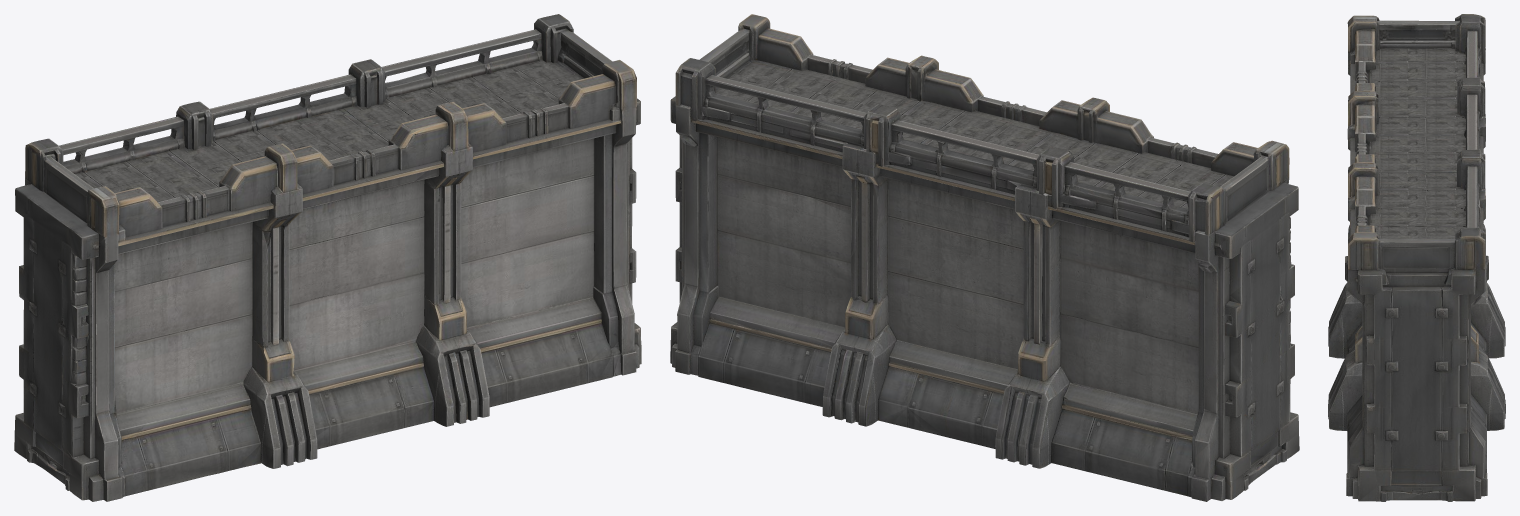
Rendered from imperial_city_wall_straight.glb.
3 views of the same model, side by side, from view 1: azimuth 30°, elevation 25°; view 2: azimuth 150°, elevation 25°; view 3: azimuth 270°, elevation 25° (orthographic). The views are drawn at different scales.
Parts seen in each view (by area): view 1: mesh_node; view 2: mesh_node; view 3: mesh_node.
Part boxes in pixels (x1,y1,x2,y2): mesh_node: (14,14,641,501); mesh_node: (670,14,1299,501); mesh_node: (1328,14,1505,501).
Bounding box in the file's own units: 11.9 × 6.1 × 3.77.
1 material, 1 textured.
